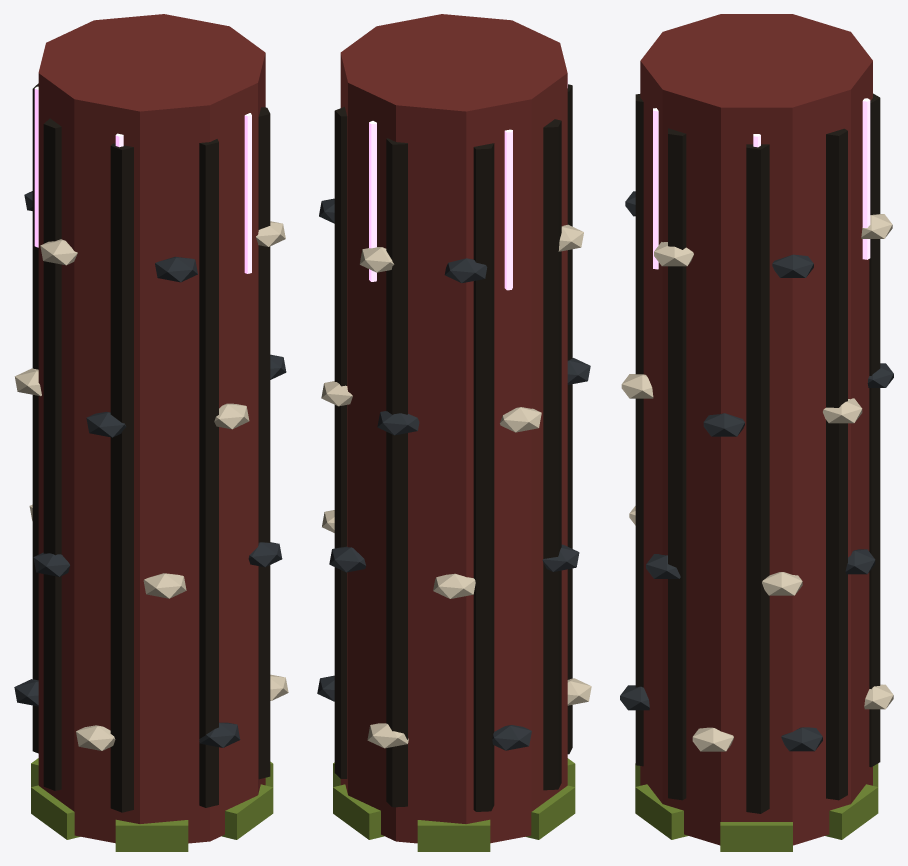
The model's file is trunk_column.glb.
3 views of the same model, side by side, from view 1: azimuth 30°, elevation 25°; view 2: azimuth 150°, elevation 25°; view 3: azimuth 270°, elevation 25° (orthographic).
Visible parts, largest first — view 1: trunk_column; view 2: trunk_column; view 3: trunk_column.
Boxes of the visible parts, x1=… form: trunk_column: x1=14, y1=14, x2=288, y2=851; trunk_column: x1=317, y1=14, x2=591, y2=851; trunk_column: x1=620, y1=14, x2=893, y2=851.
Size of the model in its own units: 9.4 by 28.1 by 9.41.
Materials: 2 (1 with a texture image).
